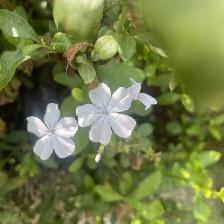chitrak: (73, 78, 143, 142), (26, 101, 80, 162)
